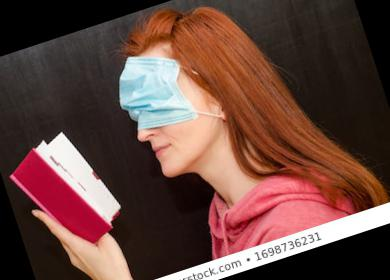mask_weared_incorrect: (107, 54, 215, 193)
